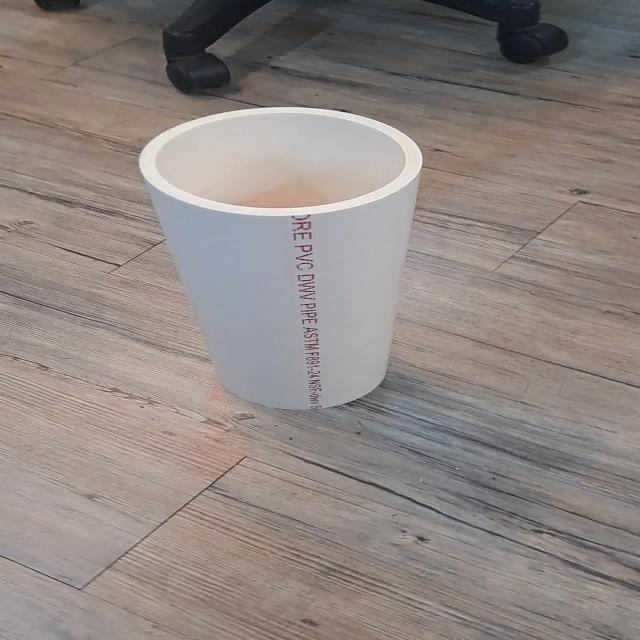CORAL: (137, 102, 440, 414)
